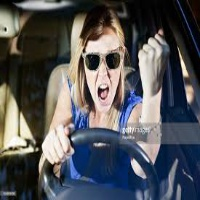ring: (49, 145, 59, 165), (142, 43, 154, 57)
